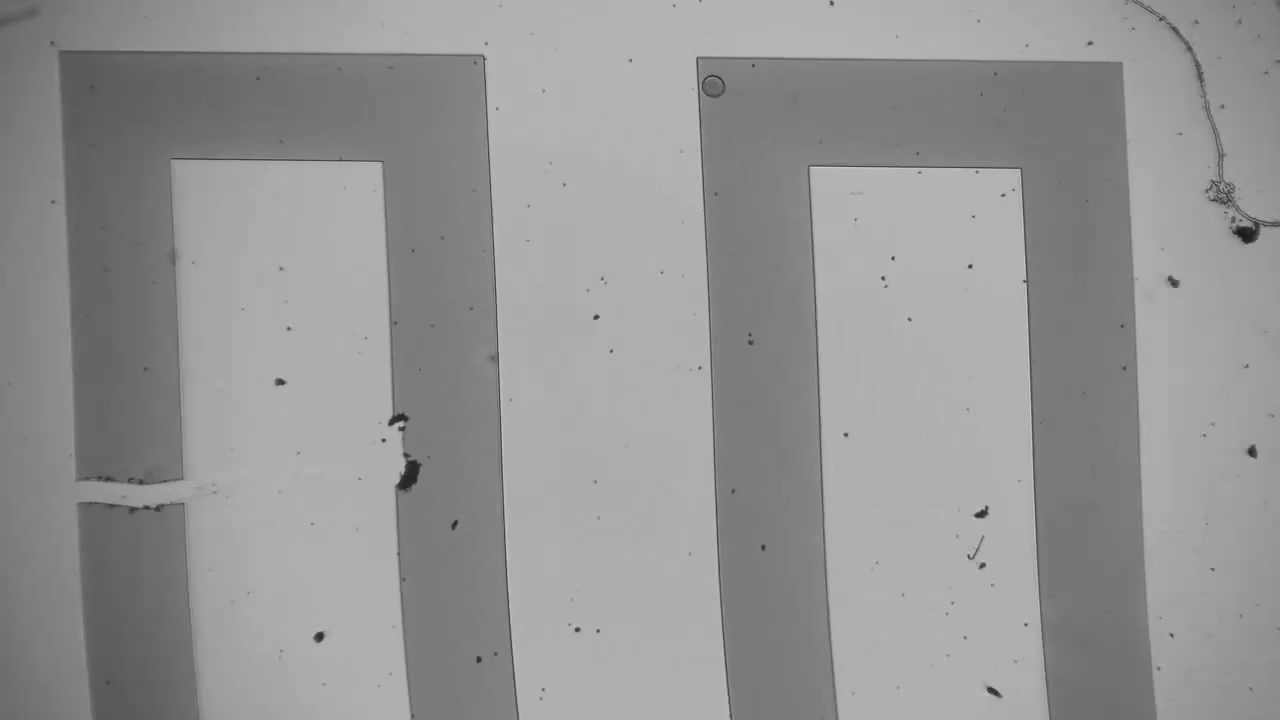Short_circuit: (54, 455, 206, 525)
